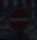No entry: (6, 5, 32, 35)
